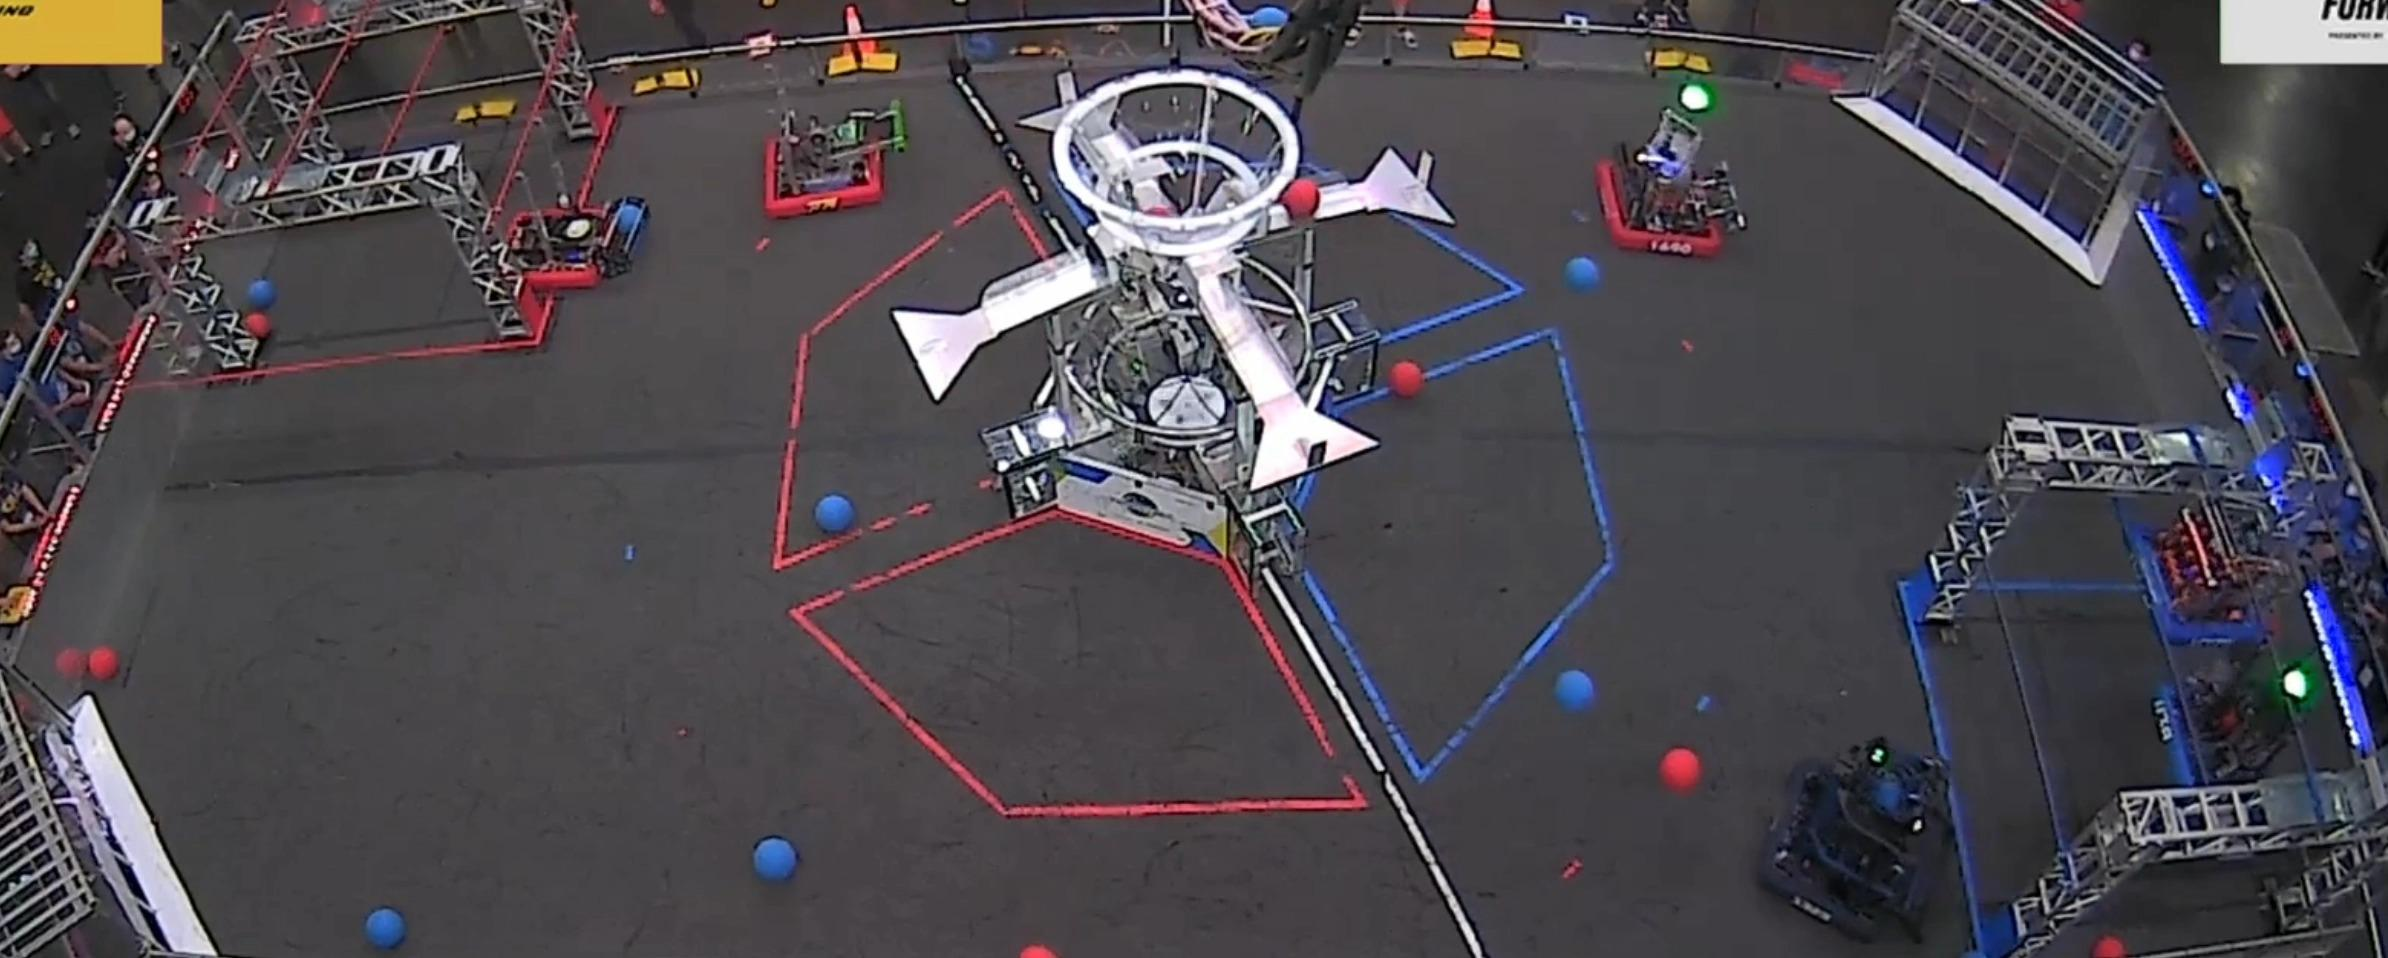Robots: (1759, 736, 1955, 944), (2117, 484, 2350, 640), (2150, 635, 2362, 795), (1604, 104, 1747, 254), (498, 195, 646, 314), (765, 99, 902, 215)
